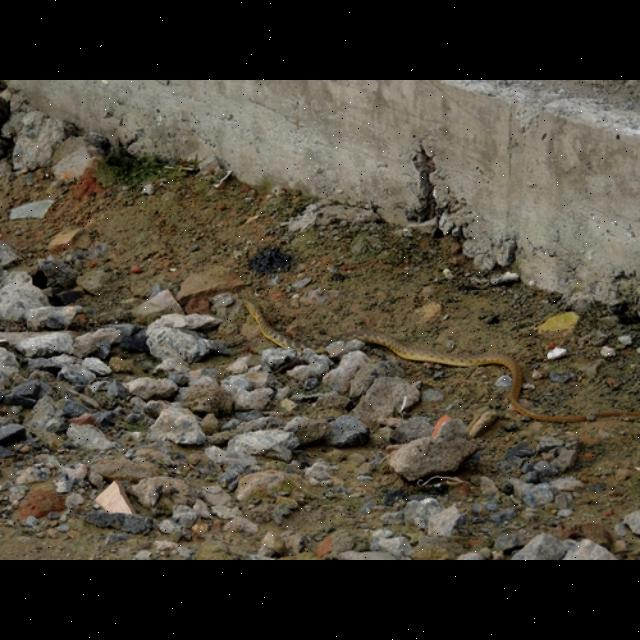snake: (225, 288, 631, 429)
